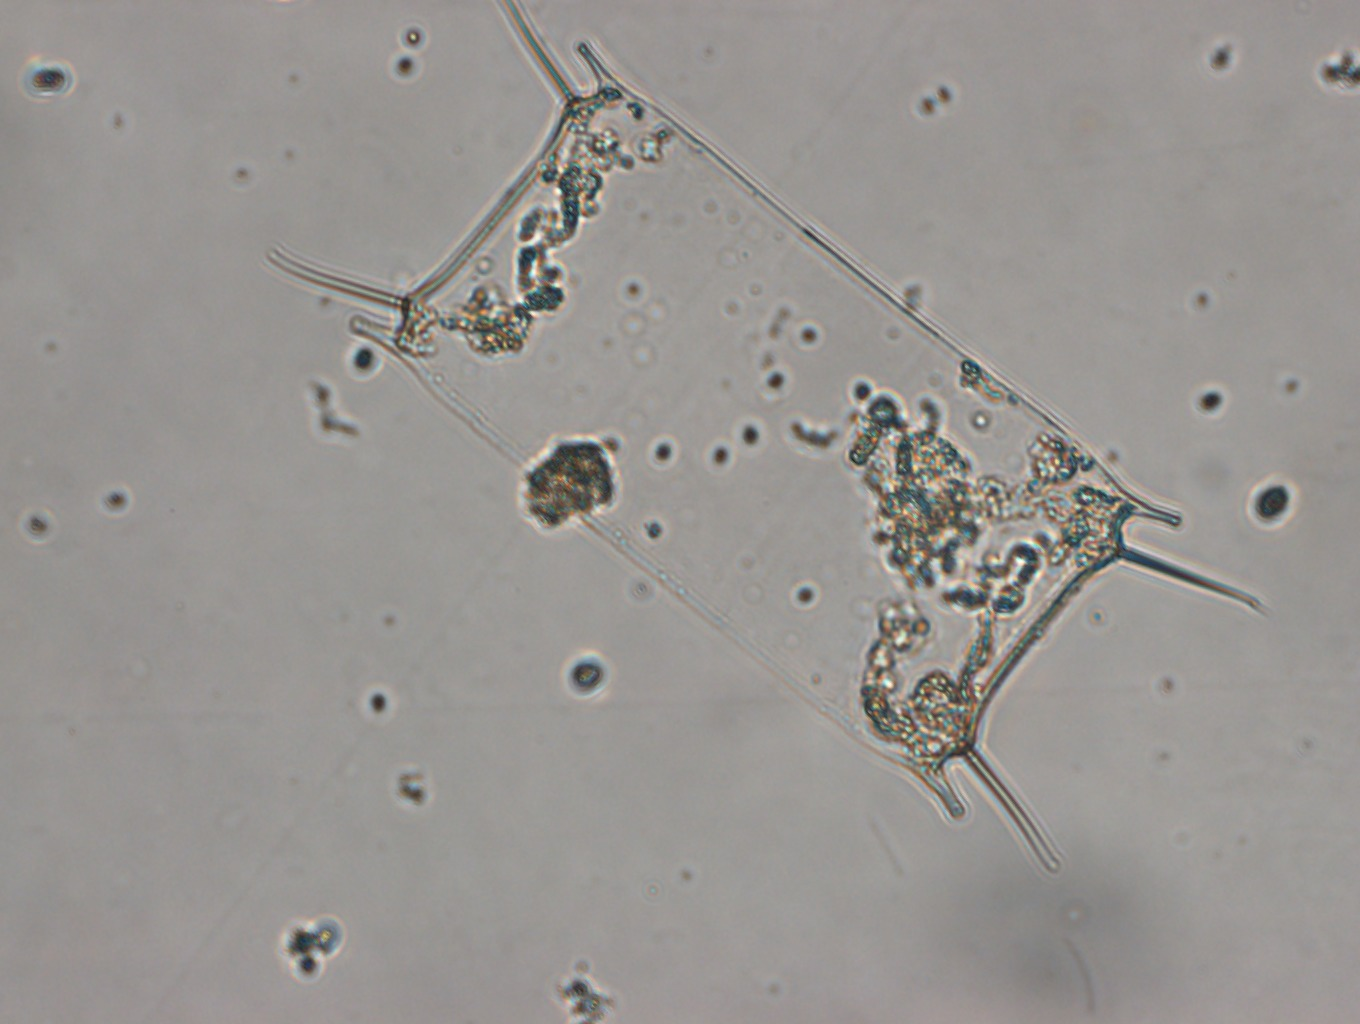biddulphia: (263, 1, 1270, 874)
